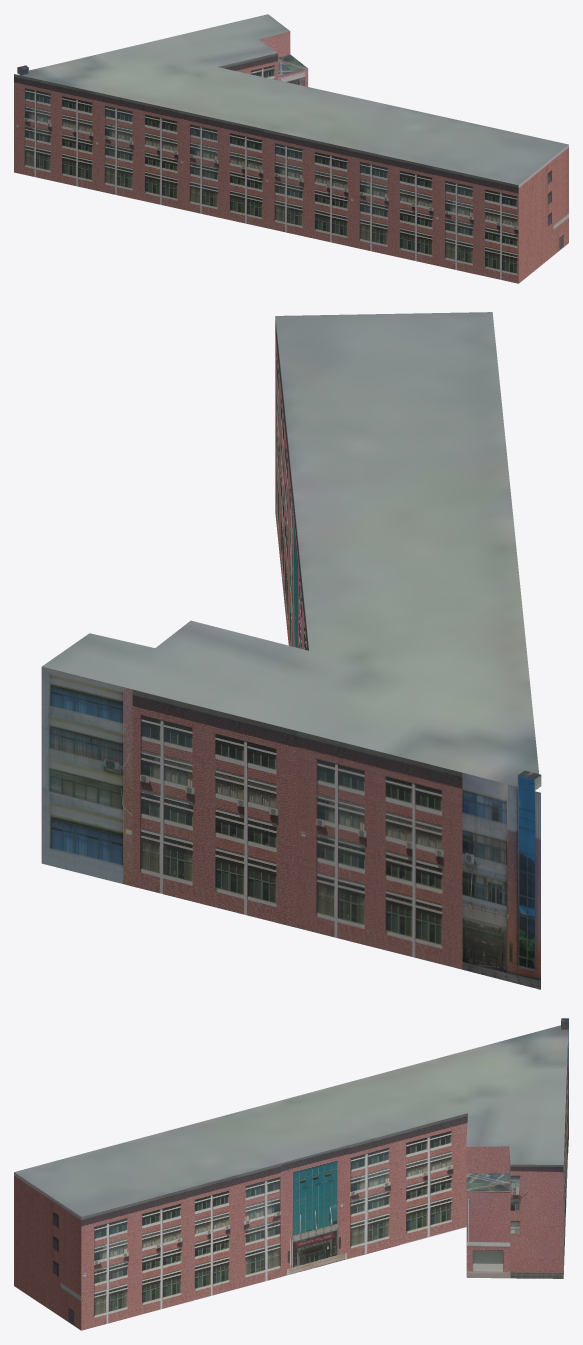
The model's file is wrj.gltf.
The picture shows the model from 3 angles, top to bottom: view 1: azimuth 30°, elevation 25°; view 2: azimuth 150°, elevation 25°; view 3: azimuth 270°, elevation 25°; orthographic projection. The views are drawn at different scales.
Parts seen in each view (by area): view 1: Model#6; view 2: Model#6; view 3: Model#6.
Part boxes in pixels (x1,y1,x2,y2): Model#6: (14, 14, 568, 283); Model#6: (41, 312, 541, 989); Model#6: (14, 1018, 568, 1330).
Size of the model in its own units: 0.0621 by 0.018 by 0.0751.
Materials: 3 (3 with a texture image).
